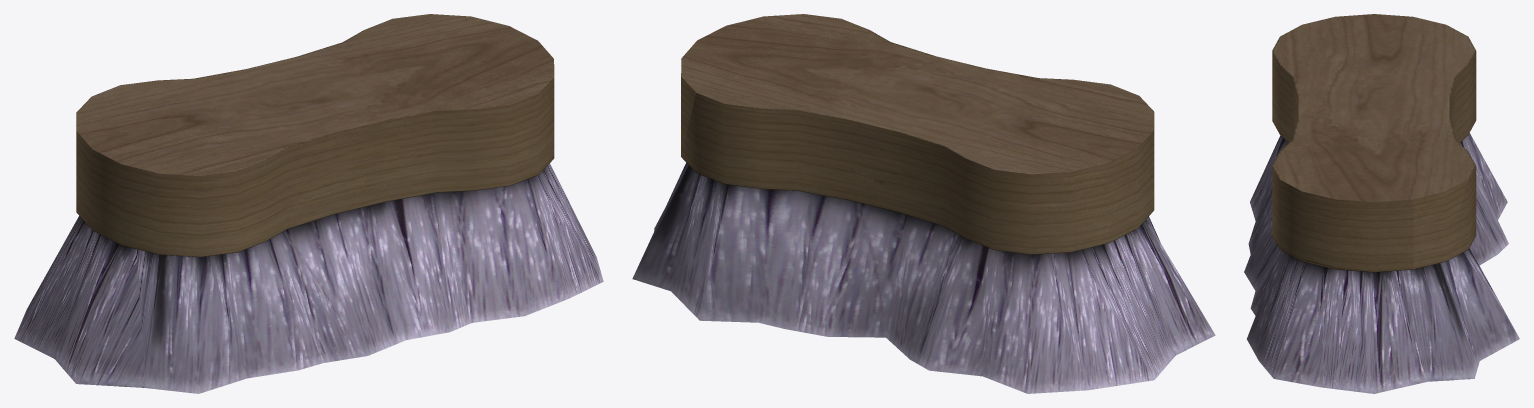
File: brush.obj
3 views of the same model, side by side, from view 1: azimuth 30°, elevation 25°; view 2: azimuth 150°, elevation 25°; view 3: azimuth 270°, elevation 25° (orthographic). The views are drawn at different scales.
Parts seen in each view (by area): view 1: OBJ_Brush_and_Bucket_Brush; view 2: OBJ_Brush_and_Bucket_Brush; view 3: OBJ_Brush_and_Bucket_Brush.
Part boxes in pixels (x1,y1,x2,y2): OBJ_Brush_and_Bucket_Brush: (14,14,603,393); OBJ_Brush_and_Bucket_Brush: (632,14,1215,393); OBJ_Brush_and_Bucket_Brush: (1244,14,1519,393).
Bounding box in the file's own units: 30.05 × 10.73 × 15.47.
